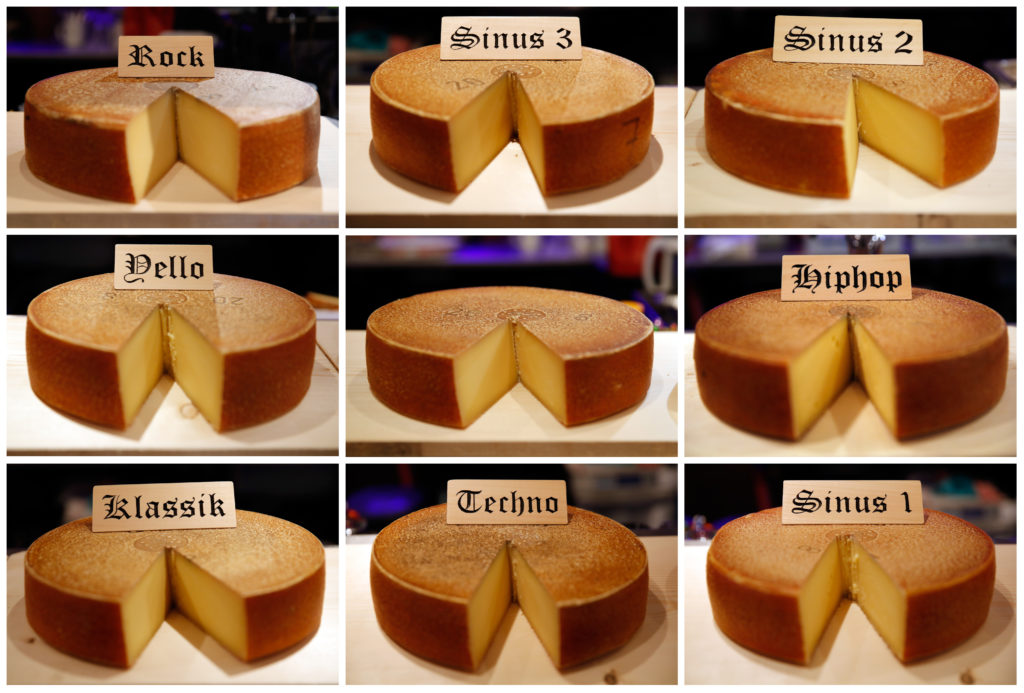cheese: (363, 475, 665, 676), (729, 248, 1009, 450), (30, 488, 334, 670), (690, 22, 1021, 188), (11, 256, 318, 431), (18, 37, 325, 204), (703, 485, 992, 656), (364, 255, 644, 430), (374, 18, 637, 202)
